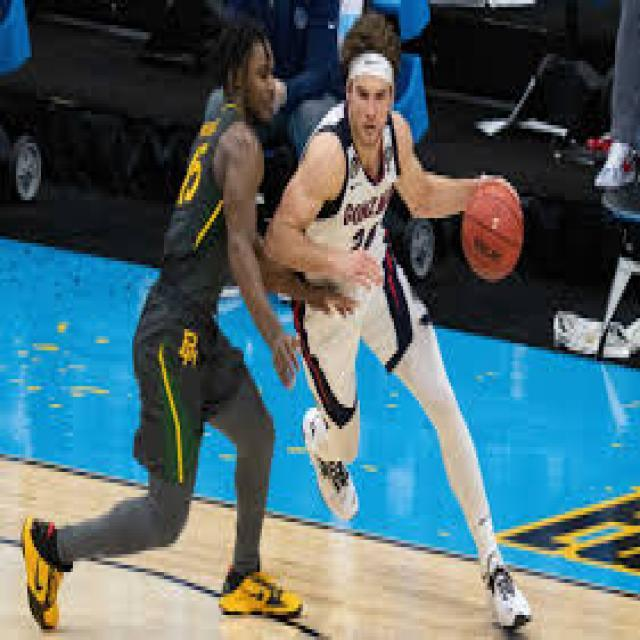rim: (464, 182, 524, 276)
